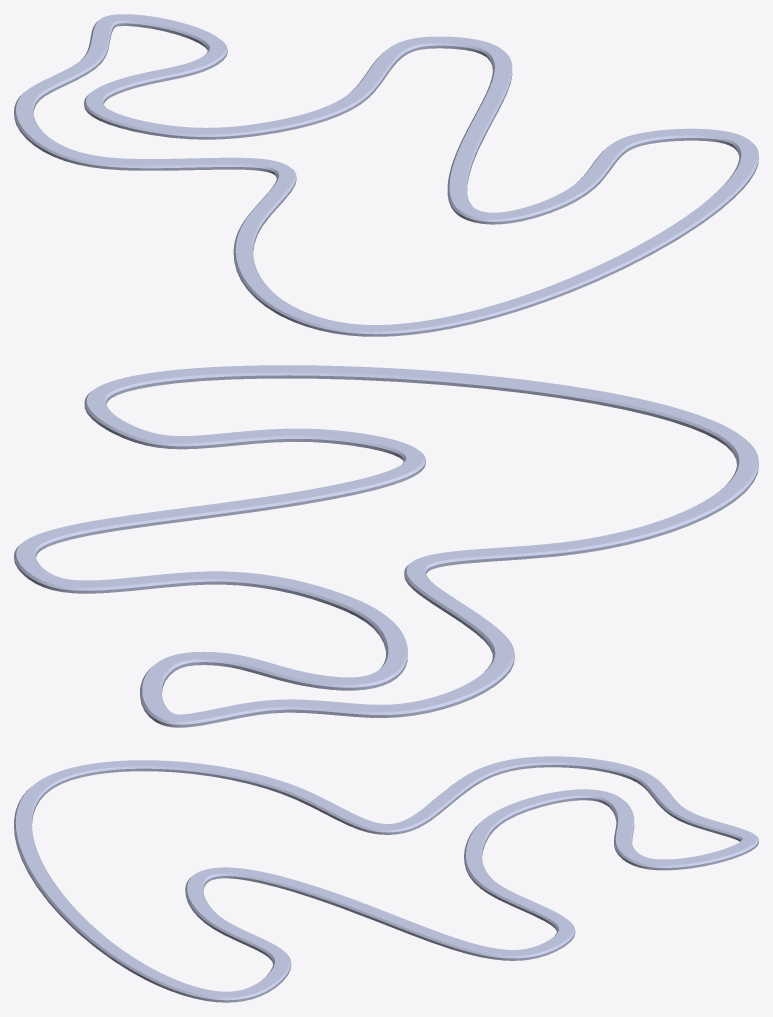
Rendered from Track1.obj.
3 views of the same model, one above another, from view 1: azimuth 30°, elevation 25°; view 2: azimuth 150°, elevation 25°; view 3: azimuth 270°, elevation 25° (orthographic). The views are drawn at different scales.
Parts seen in each view (by area): view 1: mesh 1 Track1; view 2: mesh 1 Track1; view 3: mesh 1 Track1.
Boxes of the visible parts, x1,y1,x2,y2 form: mesh 1 Track1: (14, 14, 758, 336); mesh 1 Track1: (14, 365, 758, 727); mesh 1 Track1: (14, 756, 758, 1002).
Bounding box in the file's own units: 0.8092 × 0.00635 × 1.05.
